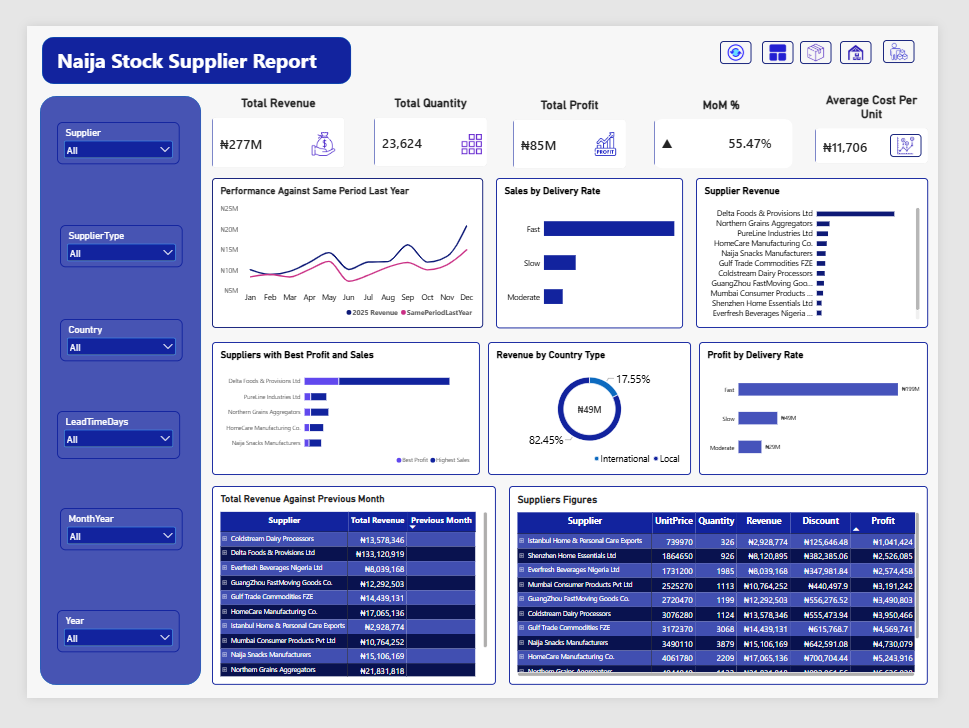

What the dashboard file says about the page in this screenshot:
{"tool":"powerbi","page":{"name":"Supplier Page ","canvas":[1940,1430],"ordinal":3},"visuals":[{"type":"barChart","title":"Sales by Delivery Rate","fields":{"Category":["Dim_Supplier.Delivery Rate"],"Y":["Overview_Measure_Table.Total Revenue"]},"box":[998,323.4,398.4,319.7],"z":0},{"type":"image","box":[1644.7,31.9,66.5,49.2],"z":1000},{"type":"image","box":[1730.6,32.7,66.5,49.2],"z":2000},{"type":"image","box":[1820.4,30.6,66.5,49.2],"z":3000},{"type":"image","box":[1563.8,31.9,66.5,49.2],"z":4000},{"type":"image","box":[1474.5,31.9,66.5,49.2],"z":5000},{"type":"pivotTable","title":"Suppliers Figures","fields":{"Rows":["Dim_Supplier.SupplierName","Dim_Supplier.SupplierType","Dim_Supplier.Country"],"Values":["Sum(Fact_Sales.UnitPrice)","Overview_Measure_Table.Total Quantity","Overview_Measure_Table.Total Revenue","Overview_Measure_Table.Total Discount","Overview_Measure_Table.Total Profit"]},"box":[1025.5,978.7,891.5,423.4],"z":6000},{"type":"shape","box":[32.7,23.1,657.9,100],"z":7000},{"type":"shape","box":[28.6,149,342.9,1253.1],"z":8000},{"type":"slicer","fields":{"Values":["Dim_Supplier.SupplierName"]},"box":[63.2,205.3,261.2,90.5],"z":9000},{"type":"slicer","fields":{"Values":["Dim_Supplier.SupplierType"]},"box":[69.4,422.4,261.2,90.5],"z":10000},{"type":"slicer","fields":{"Values":["Dim_Supplier.Country"]},"box":[69.4,622.4,261.2,90.5],"z":11000},{"type":"slicer","fields":{"Values":["Dim_Date.MonthYear"]},"box":[69.4,1026.5,261.2,90.5],"z":12000},{"type":"slicer","fields":{"Values":["Dim_Supplier.LeadTimeDays"]},"box":[63.3,818.4,261.5,101.9],"z":13000},{"type":"textbox","box":[111.5,53.8,461.5,53.8],"z":14000},{"type":"textbox","box":[63.5,42.3,615.4,61.5],"z":15000},{"type":"barChart","title":"Suppliers with Best Profit and Sales","fields":{"Category":["Dim_Supplier.SupplierName"],"Y":["Supplier_Measure_Table.Suppliers with best profit","Supplier_Measure_Table.Suppliers with highest sales"]},"box":[393.6,672.3,570.2,283],"z":16000},{"type":"cardVisual","title":"Total Quantity","fields":{"Data":["Overview_Measure_Table.Total Quantity"]},"box":[738.8,149,241,150],"z":17000},{"type":"cardVisual","title":"Total Profit","fields":{"Data":["Overview_Measure_Table.Total Profit"]},"box":[1034.7,153.1,241,150],"z":18000},{"type":"cardVisual","title":"Total Revenue","fields":{"Data":["Overview_Measure_Table.Total Revenue"]},"box":[393.6,148.9,283,153.2],"z":19000},{"type":"cardVisual","title":"Average Cost Per Unit","fields":{"Data":["Supplier_Measure_Table.Average Cost Per Unit"]},"box":[1677.6,142.9,241,150],"z":20000},{"type":"barChart","title":"Supplier Revenue","fields":{"Category":["Dim_Supplier.SupplierName"],"Y":["Supplier_Measure_Table.Supplier Revenue %"]},"box":[1423.4,323.4,493.6,319.1],"z":21000},{"type":"donutChart","title":"Revenue by Country Type","fields":{"Y":["Supplier_Measure_Table.International Supplier Revenue","Supplier_Measure_Table.Local Supplier Revenue"]},"box":[980.9,672.3,431.9,283],"z":22000},{"type":"lineChart","title":"Performance Against Same Period Last Year","fields":{"Category":["Dim_Date.Month Name"],"Y":["Overview_Measure_Table.2025 Revenue","Overview_Measure_Table.SamePeriodLastYear"]},"box":[393.6,323.4,576.6,319.1],"z":23000},{"type":"shape","box":[1334.6,197.4,295.3,105.1],"z":24000},{"type":"cardVisual","title":"MoM %","fields":{"Data":["Overview_Measure_Table.MoM Icon","Overview_Measure_Table.Latest Month MoM %"]},"box":[1334.6,152.1,286,146.3],"z":25000},{"type":"image","box":[912.2,230.6,66.5,42.6],"z":26000},{"type":"image","box":[1202,224.5,57.2,50.5],"z":27000},{"type":"image","box":[602,224.5,57.2,50.5],"z":28000},{"type":"pivotTable","title":"Total Revenue Against Previous Month","fields":{"Rows":["Dim_Supplier.SupplierName","Dim_Date.Month Name"],"Values":["Overview_Measure_Table.Total Revenue","Overview_Measure_Table.Previous Month"]},"box":[393.6,978.7,604.3,423.4],"z":29000},{"type":"barChart","title":"Profit by Delivery Rate","fields":{"Category":["Dim_Supplier.Delivery Rate"],"Y":["Overview_Measure_Table.Total Revenue"]},"box":[1429.8,672.3,487.2,283],"z":30000},{"type":"slicer","fields":{"Values":["Dim_Date.Year"]},"box":[63.3,1242.9,261.2,90.5],"z":31000},{"type":"image","box":[1836.2,229.8,66.5,49.2],"z":32000}]}

Visuals, with their boxes in screenshot pixels (x1, y1, x2, y2), scaled from the page's 1940x1430 canvas onto the 969x728 screenshot:
"Sales by Delivery Rate" barChart: <bbox>498, 165, 697, 327</bbox>
image: <bbox>822, 16, 855, 41</bbox>
image: <bbox>864, 17, 898, 42</bbox>
image: <bbox>909, 16, 942, 41</bbox>
image: <bbox>781, 16, 814, 41</bbox>
image: <bbox>736, 16, 770, 41</bbox>
"Suppliers Figures" pivotTable: <bbox>512, 498, 958, 714</bbox>
shape: <bbox>16, 12, 345, 63</bbox>
shape: <bbox>14, 76, 186, 714</bbox>
slicer - Dim_Supplier.SupplierName: <bbox>32, 105, 162, 151</bbox>
slicer - Dim_Supplier.SupplierType: <bbox>35, 215, 165, 261</bbox>
slicer - Dim_Supplier.Country: <bbox>35, 317, 165, 363</bbox>
slicer - Dim_Date.MonthYear: <bbox>35, 523, 165, 569</bbox>
slicer - Dim_Supplier.LeadTimeDays: <bbox>32, 417, 162, 469</bbox>
textbox: <bbox>56, 27, 286, 55</bbox>
textbox: <bbox>32, 22, 339, 53</bbox>
"Suppliers with Best Profit and Sales" barChart: <bbox>197, 342, 481, 486</bbox>
"Total Quantity" cardVisual: <bbox>369, 76, 489, 152</bbox>
"Total Profit" cardVisual: <bbox>517, 78, 637, 154</bbox>
"Total Revenue" cardVisual: <bbox>197, 76, 338, 154</bbox>
"Average Cost Per Unit" cardVisual: <bbox>838, 73, 958, 149</bbox>
"Supplier Revenue" barChart: <bbox>711, 165, 958, 327</bbox>
"Revenue by Country Type" donutChart: <bbox>490, 342, 706, 486</bbox>
"Performance Against Same Period Last Year" lineChart: <bbox>197, 165, 485, 327</bbox>
shape: <bbox>667, 100, 814, 154</bbox>
"MoM %" cardVisual: <bbox>667, 77, 809, 152</bbox>
image: <bbox>456, 117, 489, 139</bbox>
image: <bbox>600, 114, 629, 140</bbox>
image: <bbox>301, 114, 329, 140</bbox>
"Total Revenue Against Previous Month" pivotTable: <bbox>197, 498, 498, 714</bbox>
"Profit by Delivery Rate" barChart: <bbox>714, 342, 958, 486</bbox>
slicer - Dim_Date.Year: <bbox>32, 633, 162, 679</bbox>
image: <bbox>917, 117, 950, 142</bbox>
